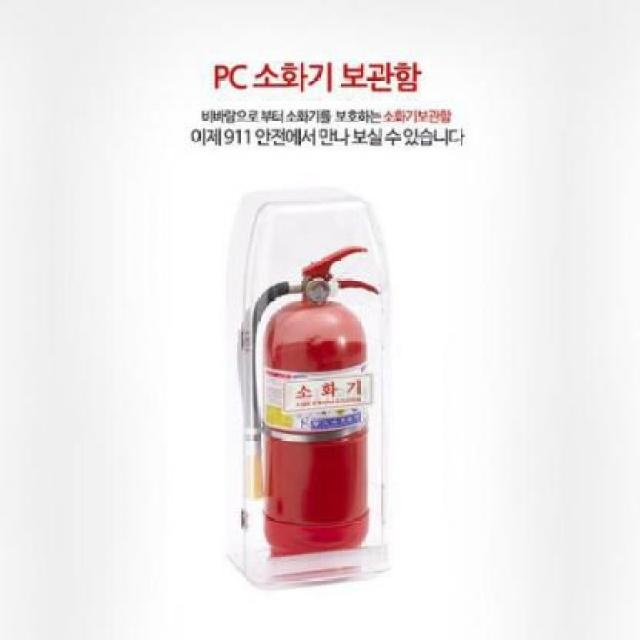fire extinguisher: (236, 246, 381, 559)
